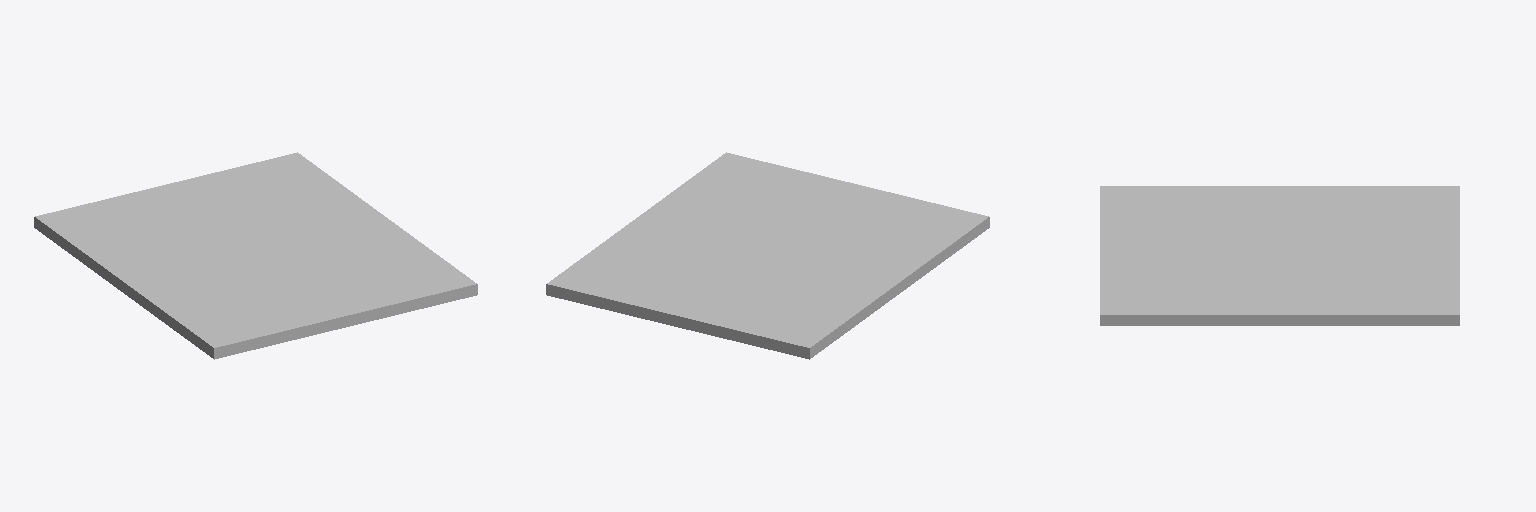
File: table.obj
The picture shows the model from 3 angles: view 1: azimuth 30°, elevation 25°; view 2: azimuth 150°, elevation 25°; view 3: azimuth 270°, elevation 25°; orthographic projection.
Visible parts, largest first — view 1: start_table; view 2: start_table; view 3: start_table.
Boxes of the visible parts, <box> form: start_table: <box>34,152,477,359</box>; start_table: <box>546,152,989,359</box>; start_table: <box>1100,186,1459,325</box>.
Bounding box in the file's own units: 81.6 × 3.35 × 96.5.